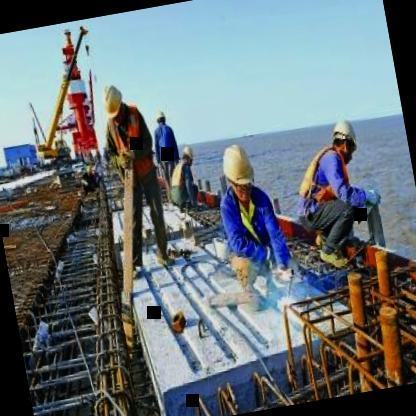helmet: (216, 138, 261, 208), (98, 78, 131, 130), (324, 114, 358, 161), (178, 138, 196, 171), (152, 104, 169, 130)
